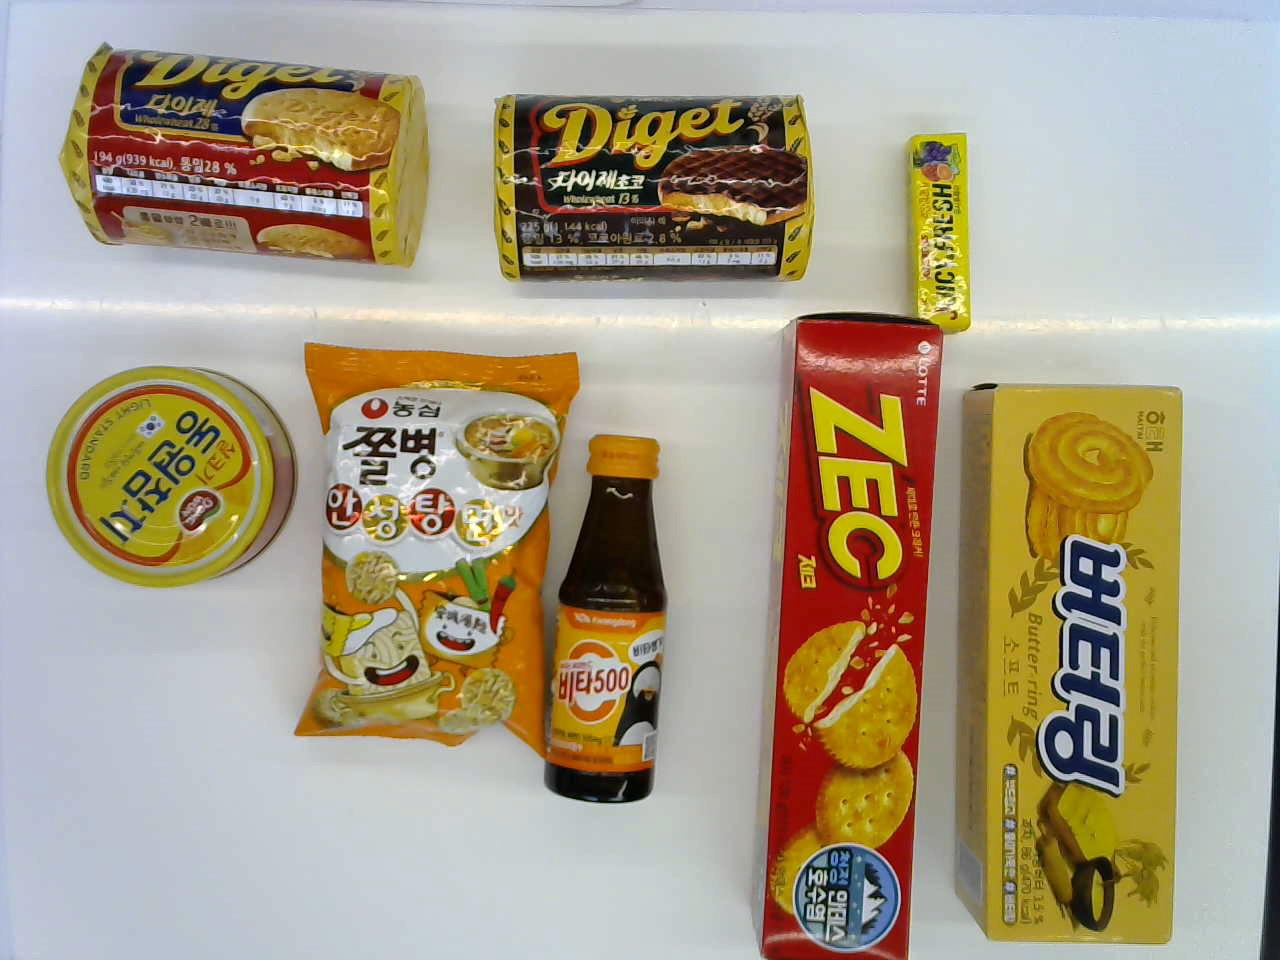buttering: (951, 349, 1200, 945)
diget_choco: (462, 72, 843, 304)
diget_ori: (49, 41, 430, 273)
jjolbyung_noodle: (293, 342, 572, 748)
juicyfresh: (900, 121, 982, 333)
tuna: (37, 349, 295, 587)
vita500: (543, 424, 678, 797)
zec: (758, 312, 939, 960)
